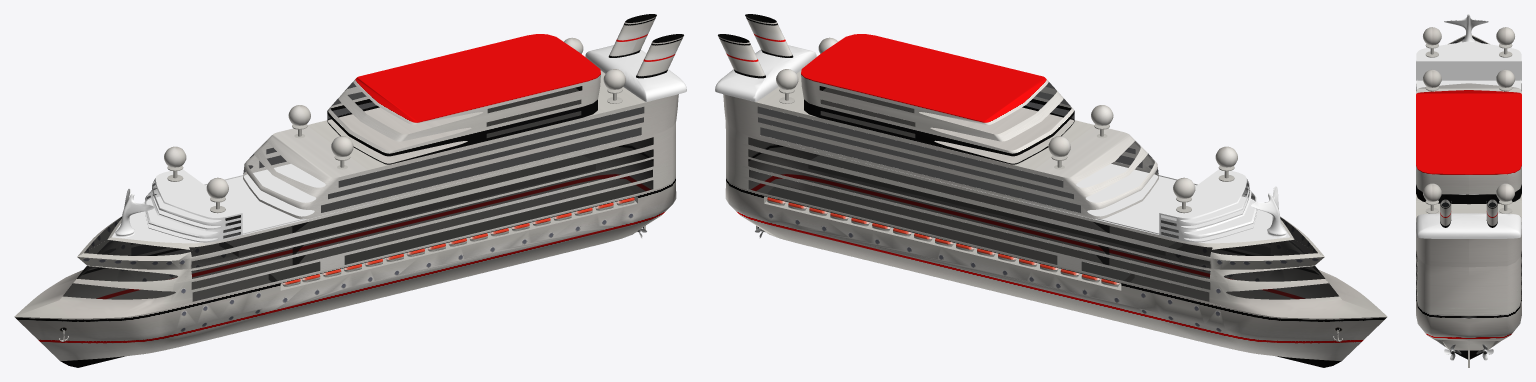
The model's file is passenger.glb.
The picture shows the model from 3 angles, left to right: view 1: azimuth 30°, elevation 25°; view 2: azimuth 150°, elevation 25°; view 3: azimuth 270°, elevation 25°; orthographic projection. The views are drawn at different scales.
Parts seen in each view (by area): view 1: Object_15, Object_2, Object_14, Object_8, Object_13, Object_3, Object_11; view 2: Object_15, Object_2, Object_14, Object_8, Object_13, Object_3, Object_11; view 3: Object_15, Object_2, Object_8, Object_6, Object_14.
Part boxes in pixels (bbox=[...]): Object_15: bbox=[15, 14, 683, 367]; Object_2: bbox=[14, 37, 678, 341]; Object_14: bbox=[189, 117, 653, 278]; Object_8: bbox=[112, 45, 686, 243]; Object_13: bbox=[63, 82, 644, 301]; Object_3: bbox=[282, 197, 634, 284]; Object_11: bbox=[82, 213, 633, 331]; Object_15: bbox=[718, 14, 1386, 367]; Object_2: bbox=[723, 37, 1387, 341]; Object_14: bbox=[748, 117, 1212, 278]; Object_8: bbox=[715, 45, 1289, 243]; Object_13: bbox=[757, 82, 1338, 301]; Object_3: bbox=[767, 197, 1119, 284]; Object_11: bbox=[768, 213, 1319, 331]; Object_15: bbox=[1416, 90, 1521, 359]; Object_2: bbox=[1416, 27, 1521, 367]; Object_8: bbox=[1416, 14, 1521, 238]; Object_6: bbox=[1444, 344, 1493, 360]; Object_14: bbox=[1416, 84, 1521, 298].
Size of the model in its own units: 1 by 0.2896 by 0.1623.
Materials: 11 (8 with a texture image).
